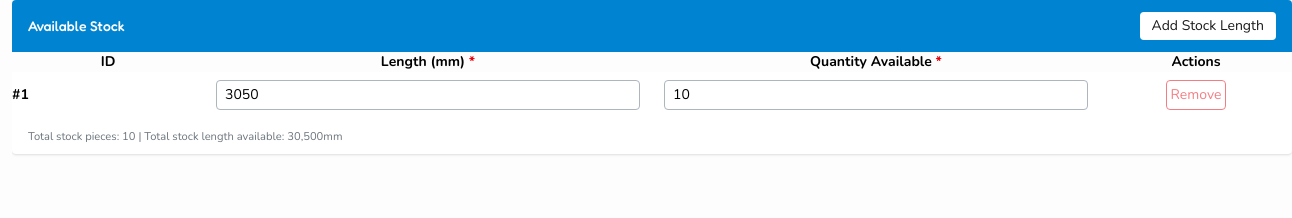
Test case: adds and removes stock items
Expected: the heading "Available Stock" is shown, [28, 16, 125, 36]
Expected: the number field named "Length for stock 1" holds "3050", [216, 80, 640, 110]
Step 1. Click the button with aria-label "add new stock item" → (1208, 26), box [1140, 12, 1276, 40]
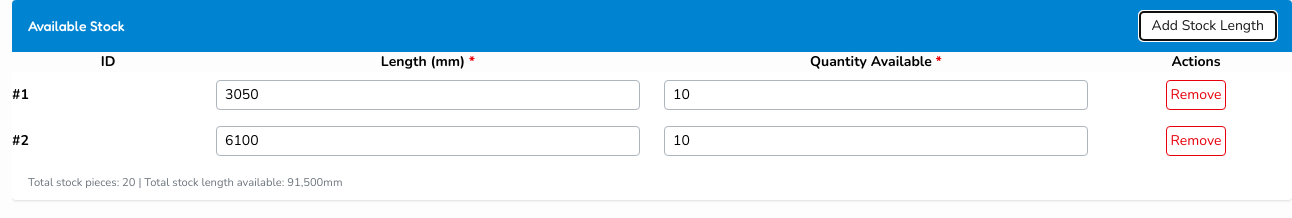
Now the number field named "Length for stock 2" holds "6100", box [216, 126, 640, 156]
Now the number field named "Quantity for stock 2" holds "10", box [664, 126, 1088, 156]
Now the button with aria-label "remove stock 1" is enabled, box [1166, 80, 1226, 110]
Step 2. Click the button with aria-label "remove stock 2" → (1196, 141), box [1166, 126, 1226, 156]
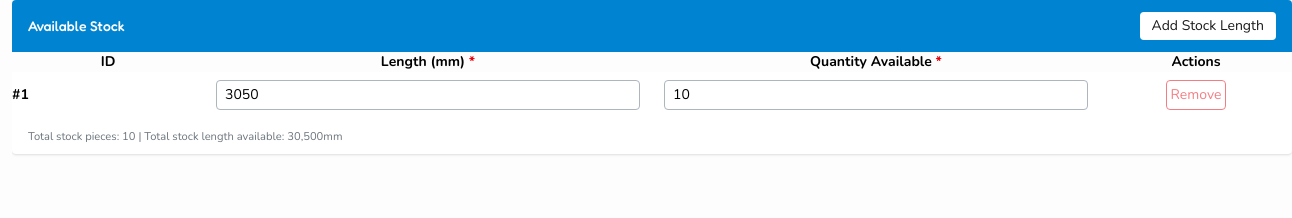
Now the button with aria-label "remove stock 1" is disabled, box [1166, 80, 1226, 110]
